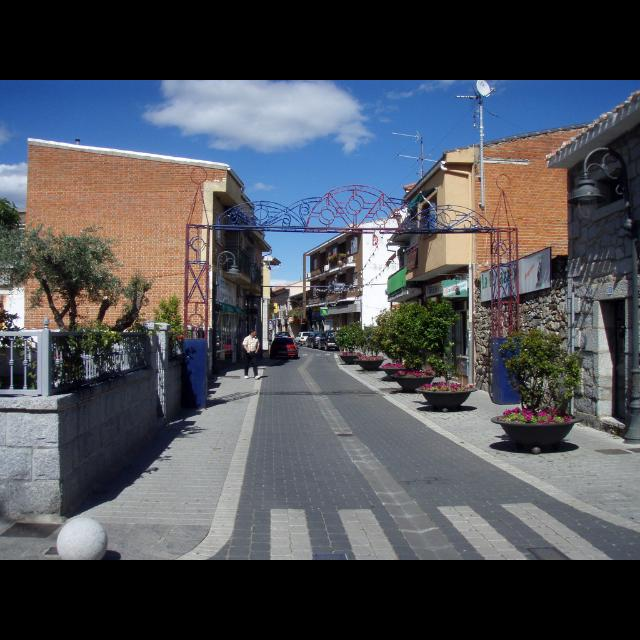Flower: (339, 348, 436, 379), (503, 408, 573, 428), (420, 378, 476, 396), (524, 414, 532, 421)
